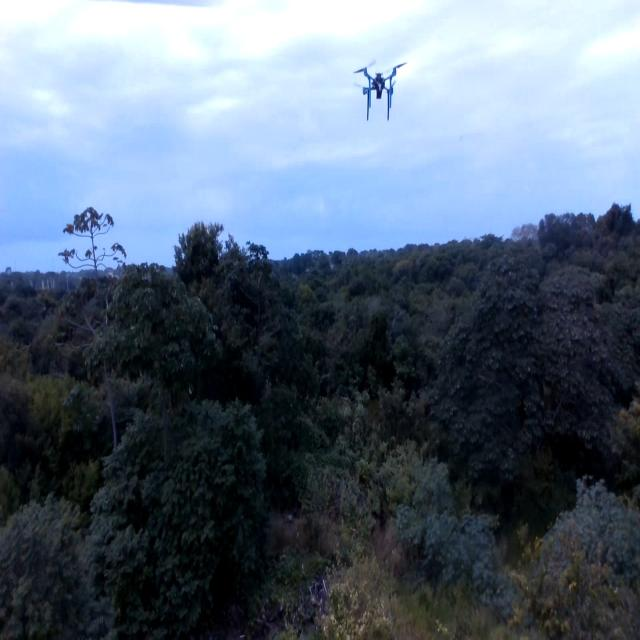-uav-: (350, 47, 409, 132)
